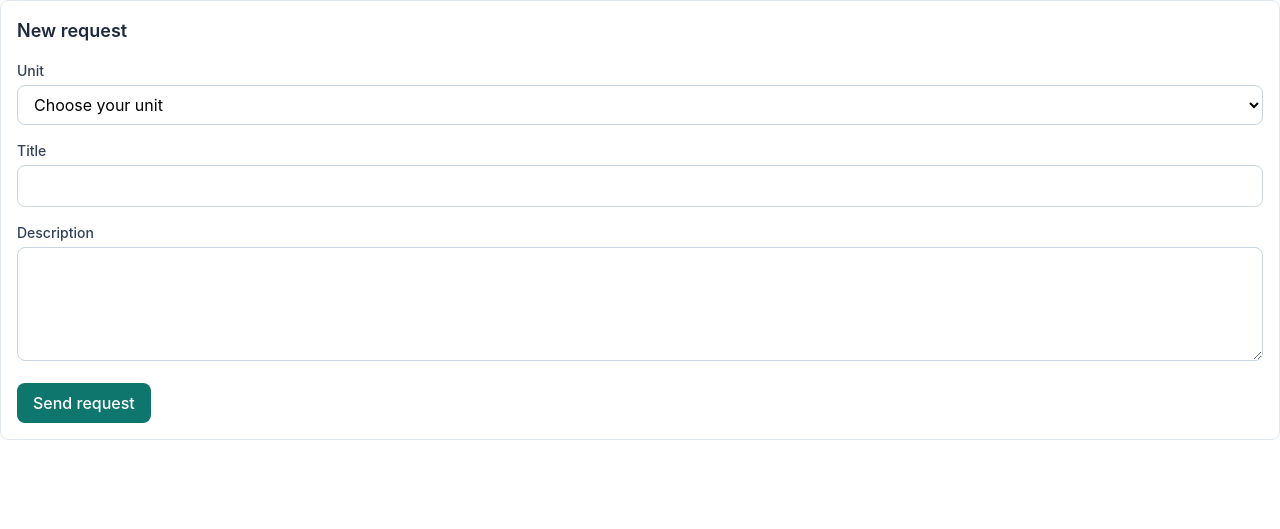
it: RequestForm › shows errors and does not submit when empty
What coordinates should you click on to do the following:
click the button "Send request"
I would click on:
 (84, 403)
Its box is left=17, top=383, right=151, bottom=423.
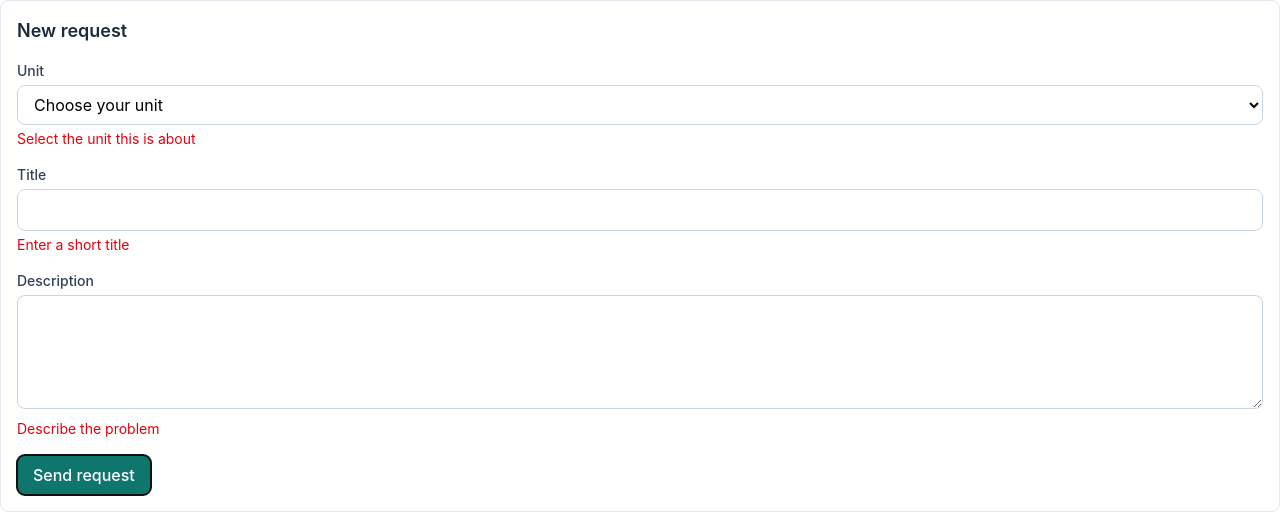
Check: the text "Select the unit this is about" is shown, box left=17, top=130, right=196, bottom=147
Check: the text "Enter a short title" is shown, box left=17, top=236, right=130, bottom=253
Check: the text "Describe the problem" is shown, box left=17, top=420, right=160, bottom=437
